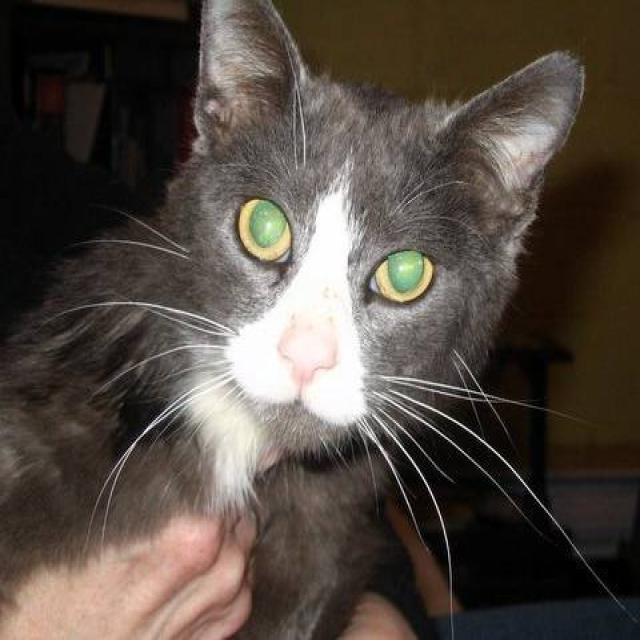cat: (0, 0, 633, 638)
